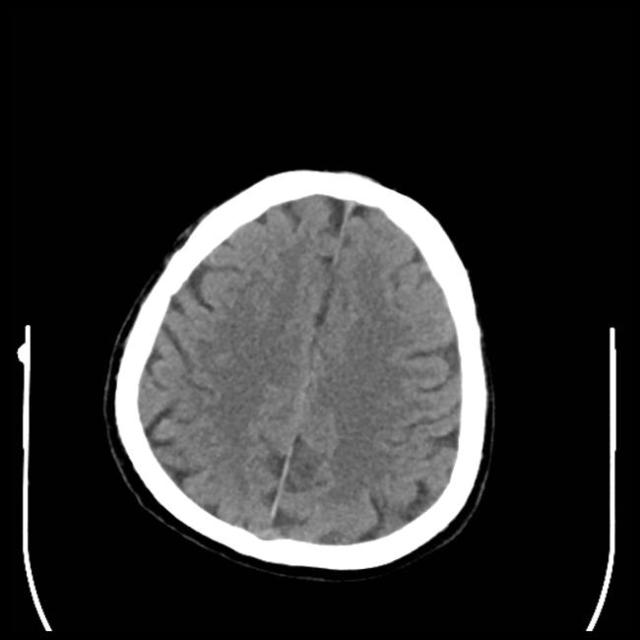lesion: (104, 165, 498, 576)
